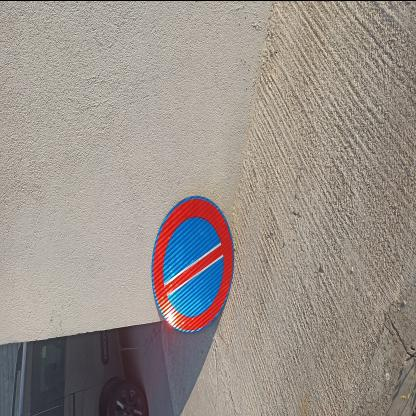No Waiting: (150, 195, 236, 333)
